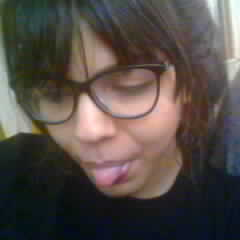without_mask: (19, 9, 188, 196)
